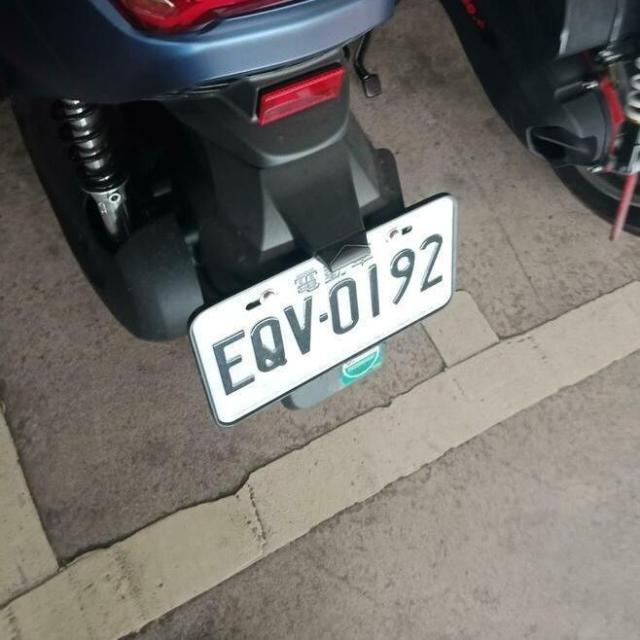W: (173, 208, 474, 433)
